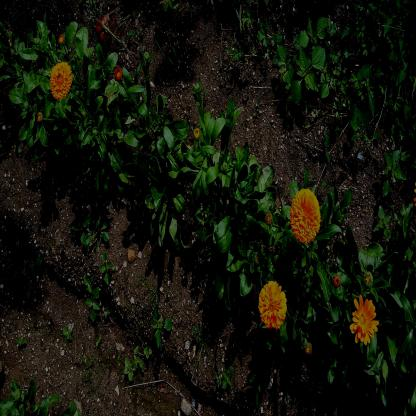marigold: (291, 189, 320, 240), (259, 281, 286, 329), (350, 296, 376, 343), (50, 63, 72, 96)
